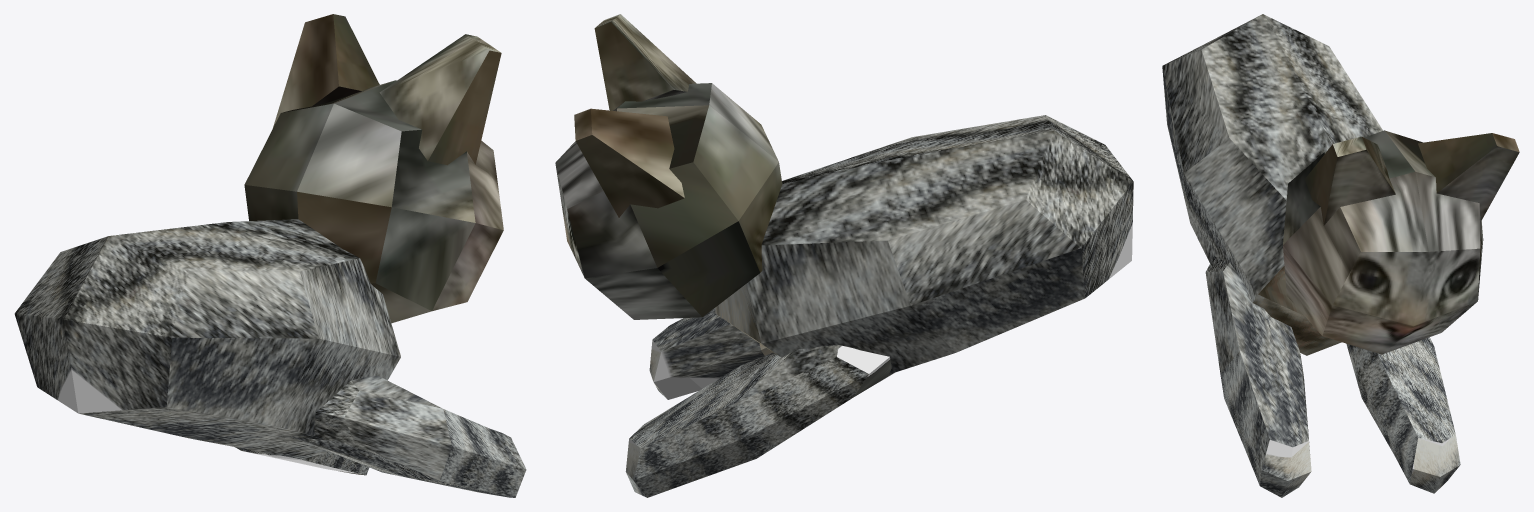
The model's file is gato2.glb.
3 renders of one model, left to right at view 1: azimuth 30°, elevation 25°; view 2: azimuth 150°, elevation 25°; view 3: azimuth 270°, elevation 25°, orthographic. The views are drawn at different scales.
Parts seen in each view (by area): view 1: Cube.002, Cube, Cube.003, Cube.001; view 2: Cube.002, Cube, Cube.003, Cube.001; view 3: Cube.002, Cube, Cube.003, Cube.001.
Boxes of the visible parts, left/top/right/bottom form: Cube.002: left=14, top=219, right=400, bottom=459; Cube: left=244, top=80, right=503, bottom=323; Cube.003: left=235, top=375, right=526, bottom=497; Cube.001: left=273, top=14, right=501, bottom=165; Cube.002: left=715, top=115, right=1133, bottom=374; Cube: left=555, top=83, right=782, bottom=319; Cube.003: left=625, top=308, right=893, bottom=497; Cube.001: left=574, top=14, right=696, bottom=217; Cube.002: left=1162, top=14, right=1382, bottom=355; Cube: left=1283, top=130, right=1483, bottom=354; Cube.003: left=1205, top=256, right=1460, bottom=497; Cube.001: left=1305, top=133, right=1519, bottom=225.
Bounding box in the file's own units: 1.39 × 1.19 × 1.
Materials: 4 (4 with a texture image).
